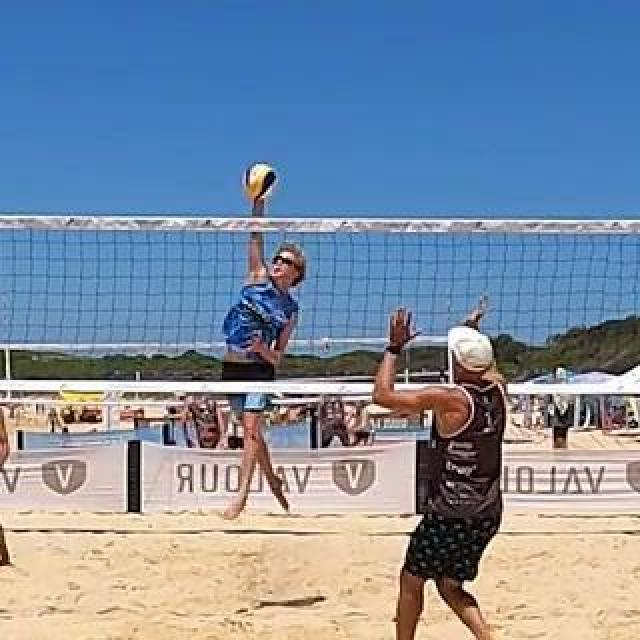volleyball: (242, 164, 278, 198)
